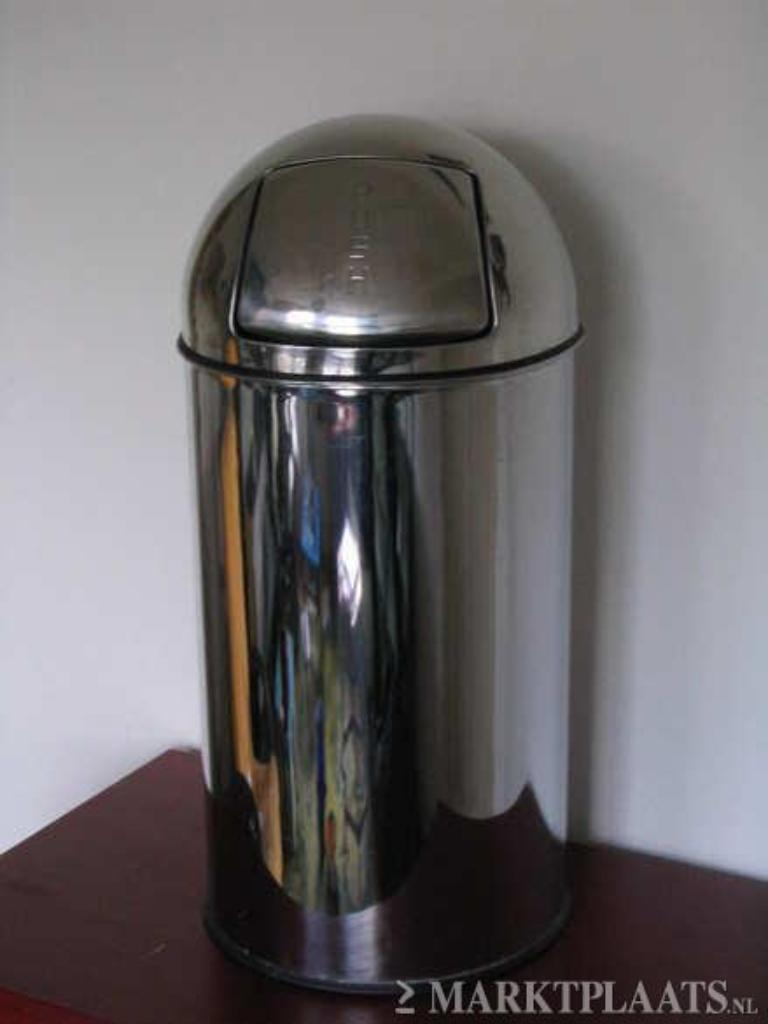dustbin: (140, 70, 626, 1024)
